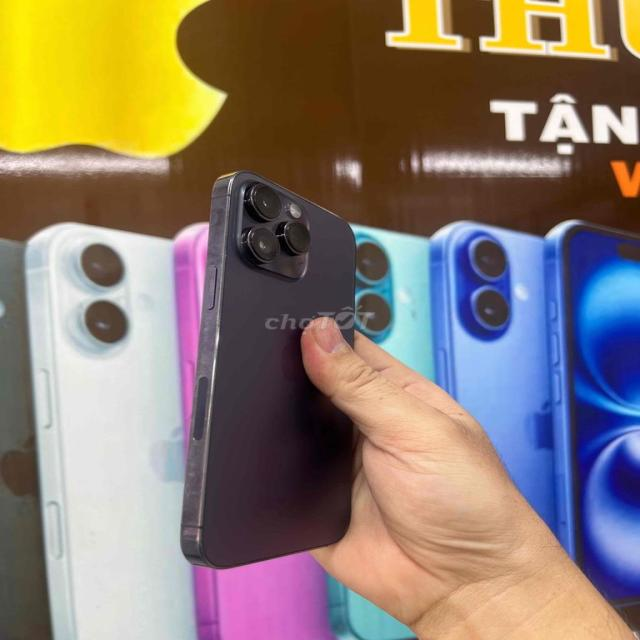gen_14: (176, 164, 392, 566)
